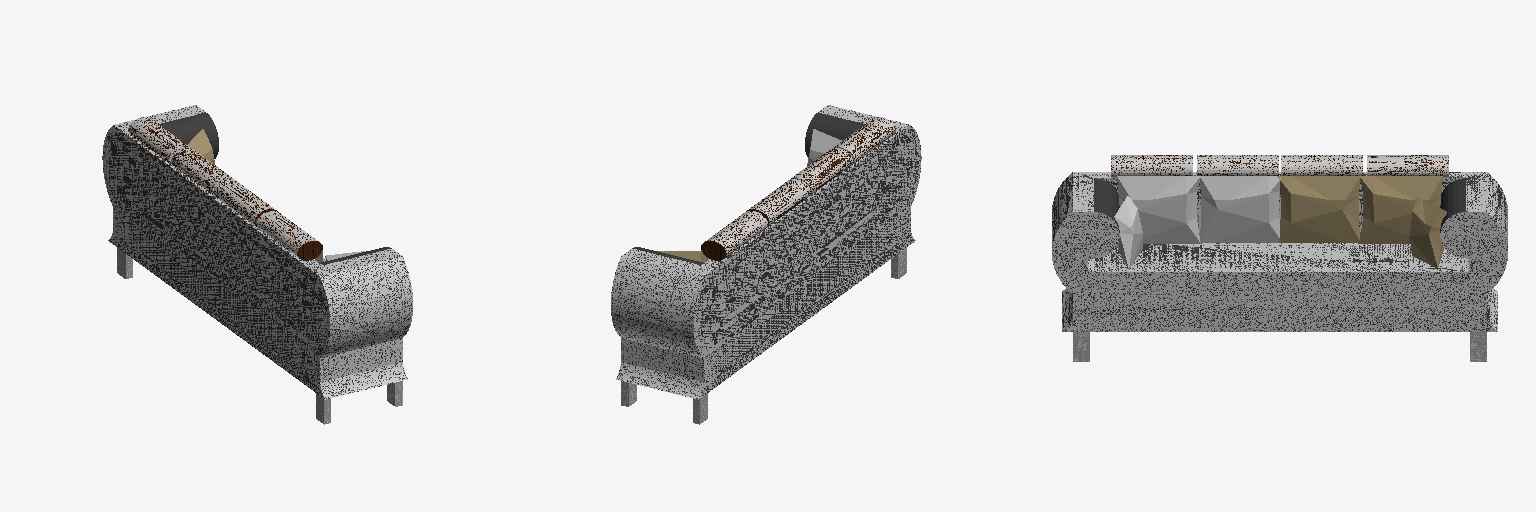
3 renders of one model, left to right at view 1: azimuth 30°, elevation 25°; view 2: azimuth 150°, elevation 25°; view 3: azimuth 270°, elevation 25°, orthographic.
Parts seen in each view (by area): view 1: mesh9.001_mesh9-geometry, mesh6.003_mesh6-geometry, mesh6.004_mesh6-geometry, mesh8.003_mesh8-geometry, mesh8.004_mesh8-geometry; view 2: mesh9.001_mesh9-geometry, mesh8.003_mesh8-geometry, mesh8.004_mesh8-geometry, mesh6.003_mesh6-geometry, mesh6.004_mesh6-geometry, mesh2.006_mesh2-geometry; view 3: mesh9.001_mesh9-geometry, mesh4.005_mesh4-geometry, mesh2.004_mesh2-geometry, mesh2.005_mesh2-geometry, mesh4.006_mesh4-geometry, mesh4.004_mesh4-geometry, mesh8.003_mesh8-geometry, mesh6.003_mesh6-geometry, mesh8.004_mesh8-geometry, mesh6.004_mesh6-geometry, mesh2.006_mesh2-geometry.
Boxes of the visible parts, box(x1,y1,x2,y2) form: mesh9.001_mesh9-geometry: box(102, 105, 412, 399); mesh6.003_mesh6-geometry: box(256, 211, 322, 260); mesh6.004_mesh6-geometry: box(213, 179, 277, 226); mesh8.003_mesh8-geometry: box(128, 117, 191, 165); mesh8.004_mesh8-geometry: box(171, 148, 232, 195); mesh9.001_mesh9-geometry: box(611, 105, 921, 399); mesh8.003_mesh8-geometry: box(701, 211, 767, 260); mesh8.004_mesh8-geometry: box(746, 179, 810, 226); mesh6.003_mesh6-geometry: box(832, 117, 895, 165); mesh6.004_mesh6-geometry: box(791, 148, 852, 195); mesh2.006_mesh2-geometry: box(807, 129, 841, 165); mesh9.001_mesh9-geometry: box(1052, 172, 1507, 331); mesh4.005_mesh4-geometry: box(1277, 176, 1359, 242); mesh2.004_mesh2-geometry: box(1200, 176, 1280, 242); mesh2.005_mesh2-geometry: box(1117, 176, 1200, 243); mesh4.006_mesh4-geometry: box(1359, 176, 1442, 243); mesh4.004_mesh4-geometry: box(1409, 197, 1446, 268); mesh8.003_mesh8-geometry: box(1367, 155, 1448, 177); mesh6.003_mesh6-geometry: box(1111, 155, 1192, 177); mesh8.004_mesh8-geometry: box(1281, 155, 1362, 175); mesh6.004_mesh6-geometry: box(1197, 155, 1278, 175); mesh2.006_mesh2-geometry: box(1114, 196, 1142, 269).
Bounding box in the file's own units: 0.1988 × 0.3704 × 0.9074.
5 materials, 1 textured.